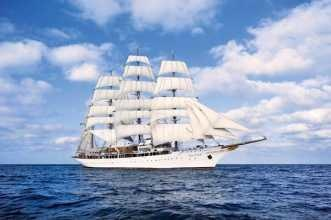fanchuan: (72, 48, 267, 168)
